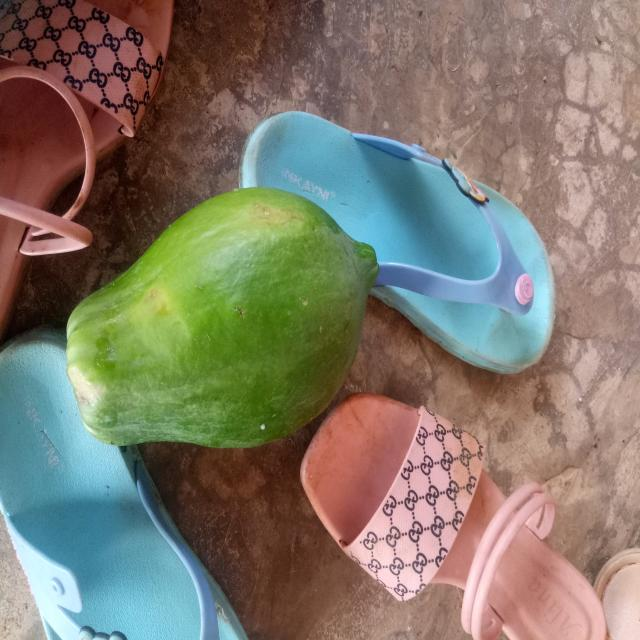Pepaya unrippen: (61, 169, 383, 469)
